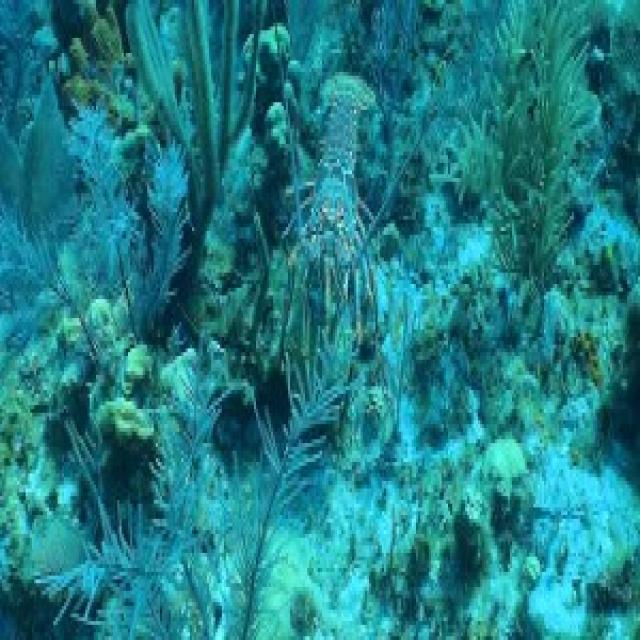lobsters: (273, 48, 407, 380)
